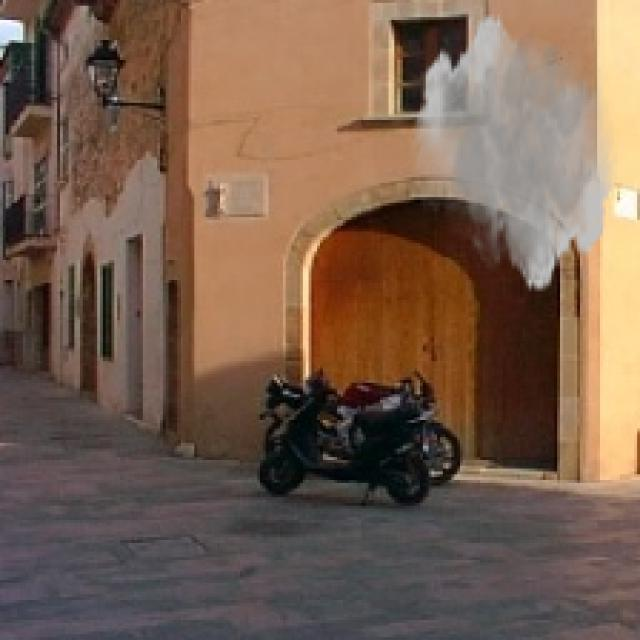Smoke: (412, 12, 617, 294)
